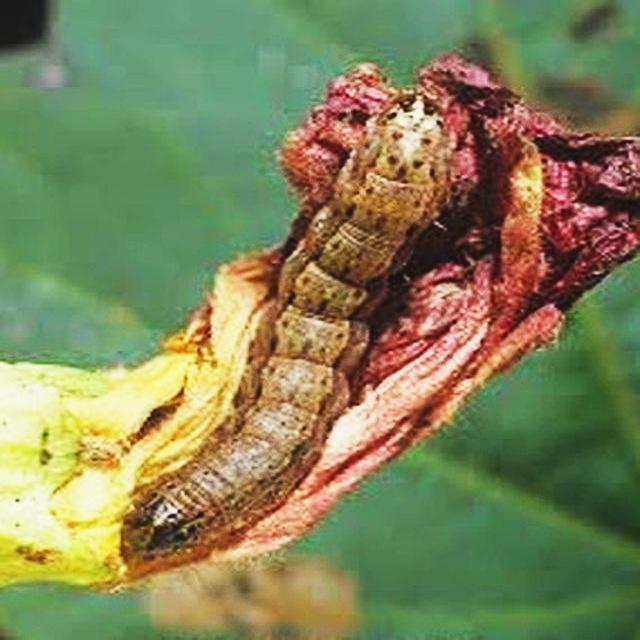gusano_cogollero: (122, 91, 456, 564)
